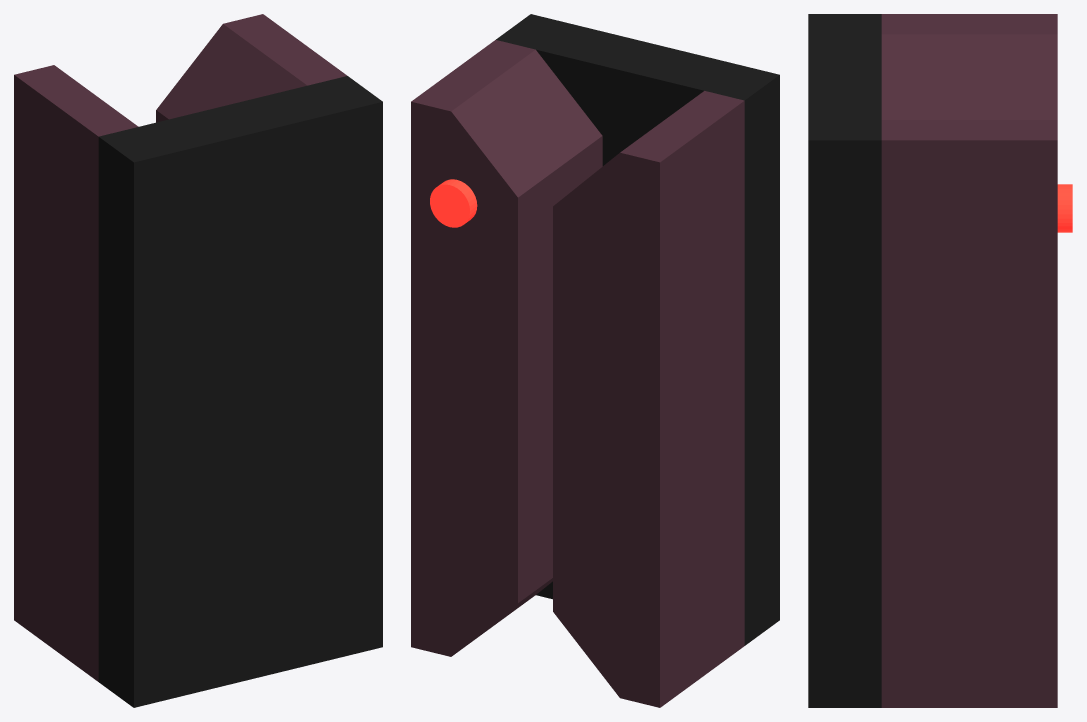
File: keycard_reader.glb
The picture shows the model from 3 angles, left to right: view 1: azimuth 30°, elevation 25°; view 2: azimuth 150°, elevation 25°; view 3: azimuth 270°, elevation 25°; orthographic projection. The views are drawn at different scales.
Visible parts, largest first — view 1: CardReader; view 2: CardReader; view 3: CardReader.
Part boxes in pixels (x1=…): CardReader: x1=14, y1=14, x2=382, y2=707; CardReader: x1=411, y1=14, x2=779, y2=707; CardReader: x1=808, y1=14, x2=1072, y2=707.
Bounding box in the file's own units: 0.1045 × 0.2187 × 0.0923.
